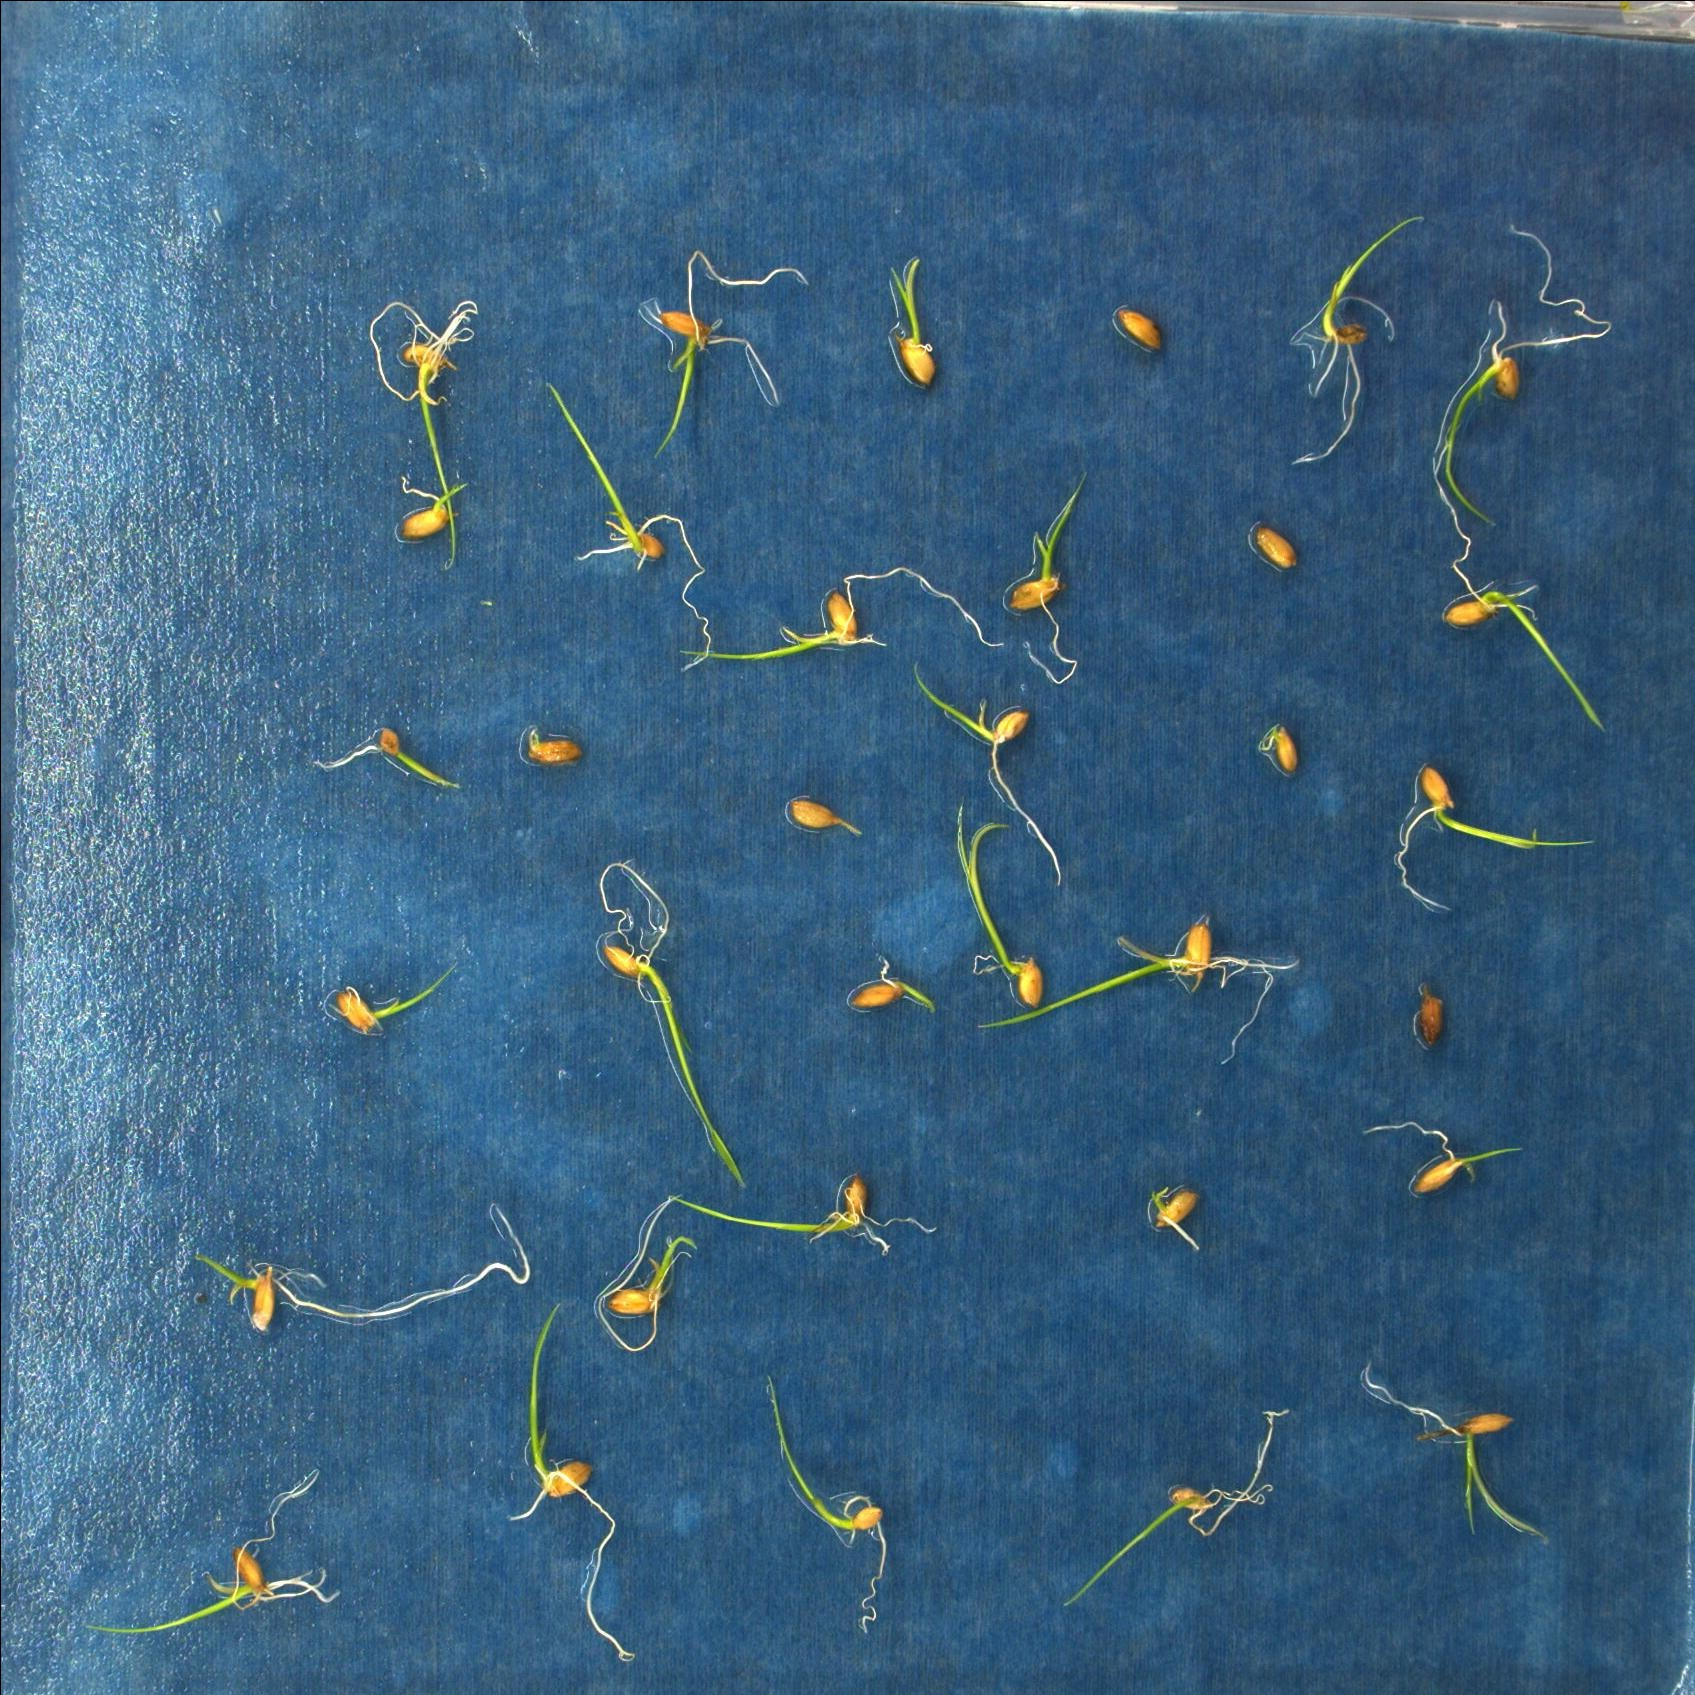not sprout: (778, 785, 871, 851), (1142, 1173, 1209, 1254), (1405, 979, 1458, 1059), (1250, 705, 1309, 771), (1108, 298, 1167, 352), (1246, 522, 1304, 570)
sprout: (1055, 1361, 1291, 1639), (1417, 442, 1622, 744), (584, 851, 767, 1181), (1426, 214, 1617, 529), (531, 380, 726, 672), (497, 1312, 649, 1676), (986, 905, 1293, 1069), (82, 1456, 355, 1639), (186, 1203, 531, 1343), (607, 245, 834, 453), (1256, 230, 1431, 492), (762, 1367, 900, 1661), (1357, 1350, 1554, 1549), (906, 650, 1076, 882), (680, 560, 1021, 671), (1391, 753, 1596, 913), (376, 289, 490, 570), (678, 1166, 941, 1265), (577, 1189, 730, 1349), (947, 807, 1066, 1004), (1003, 487, 1107, 691), (1346, 1121, 1541, 1198), (829, 934, 947, 1031), (312, 967, 469, 1038), (315, 719, 456, 795), (875, 258, 951, 394), (386, 478, 473, 553), (509, 712, 596, 778)
